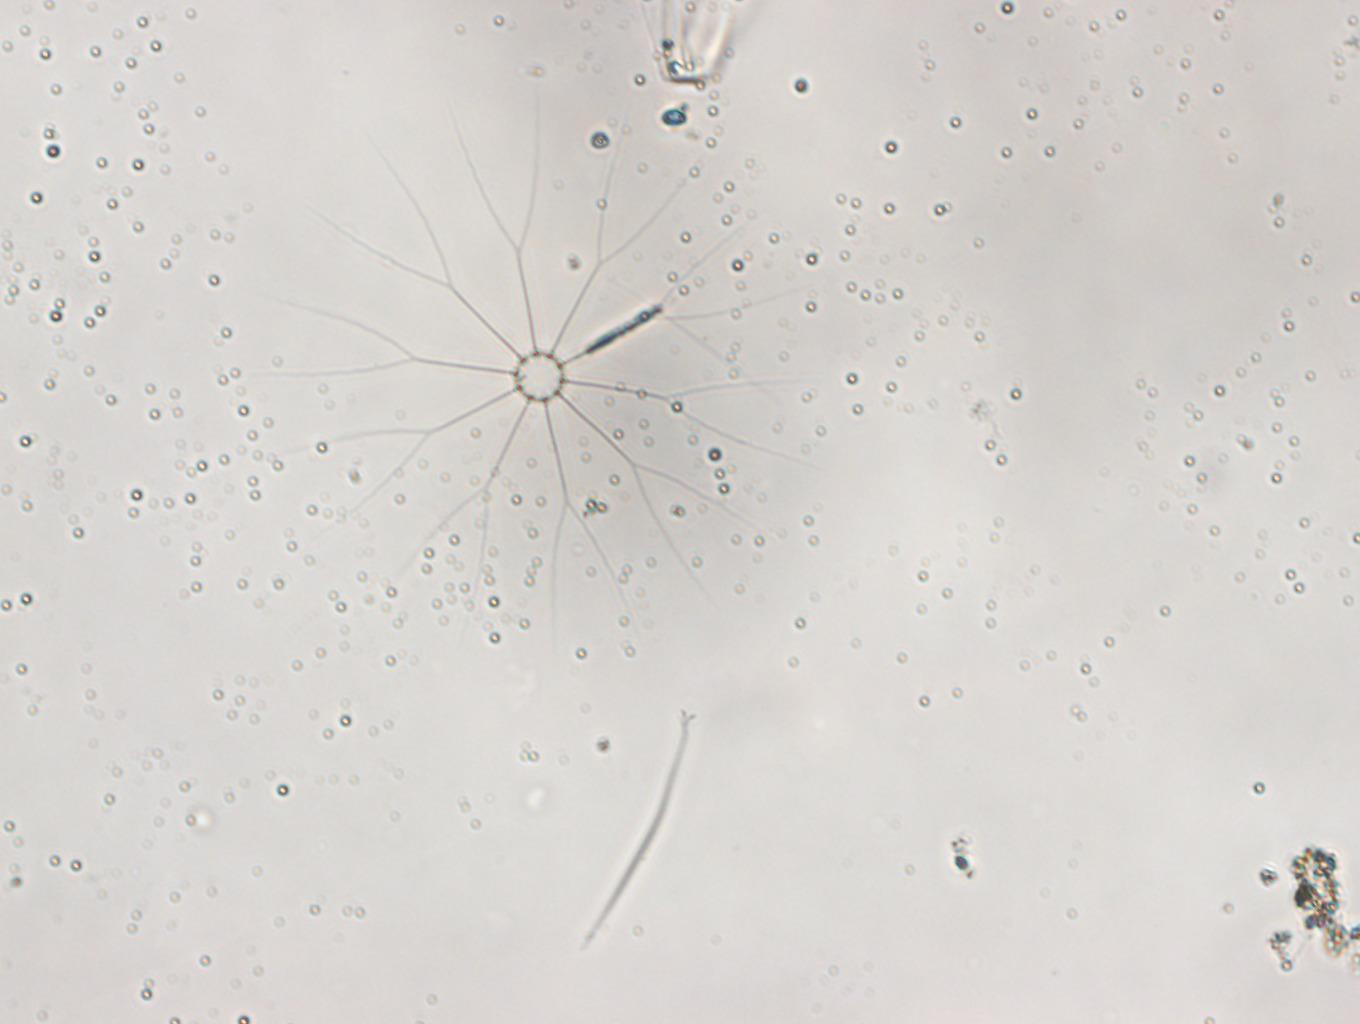bacteriastrum: (266, 91, 821, 638)
